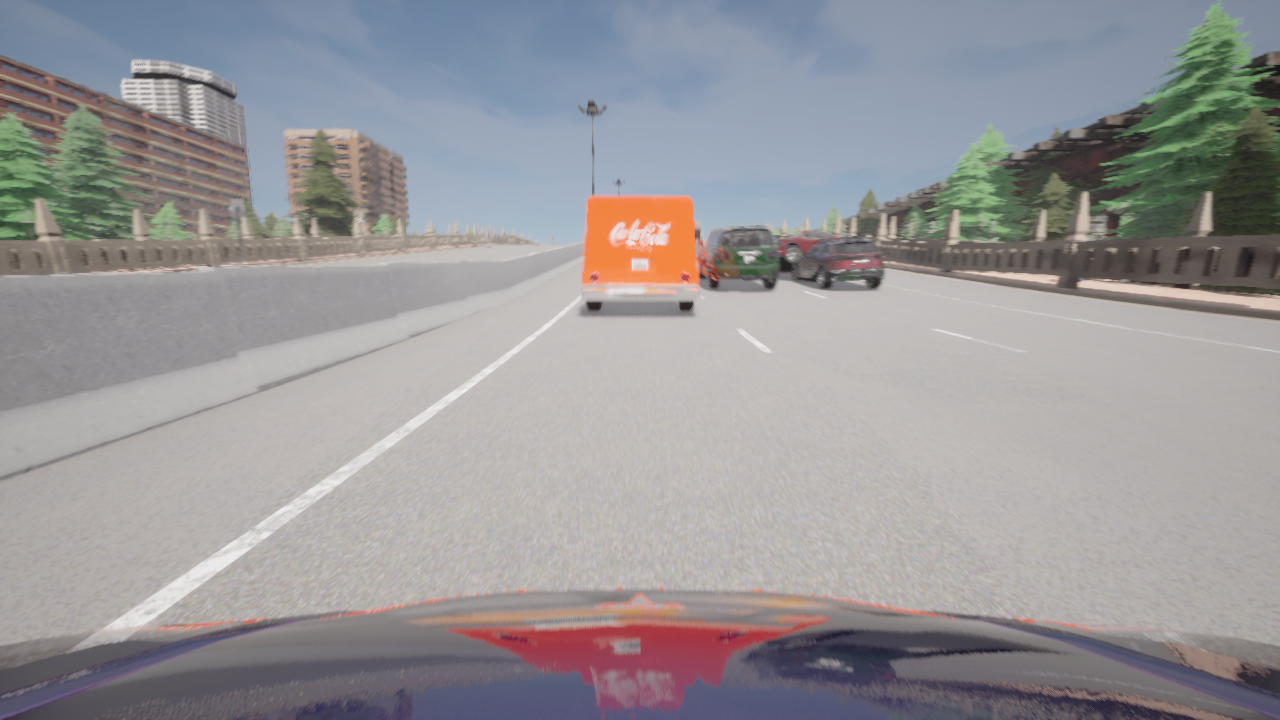cyclist: (0, 588, 1279, 719), (581, 197, 700, 310), (698, 226, 779, 288), (792, 238, 884, 288), (775, 231, 842, 272), (694, 222, 702, 256), (773, 236, 778, 241)
pedestrian: (1079, 257, 1092, 281)
